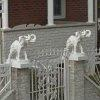Statue: (5, 25, 41, 84)
